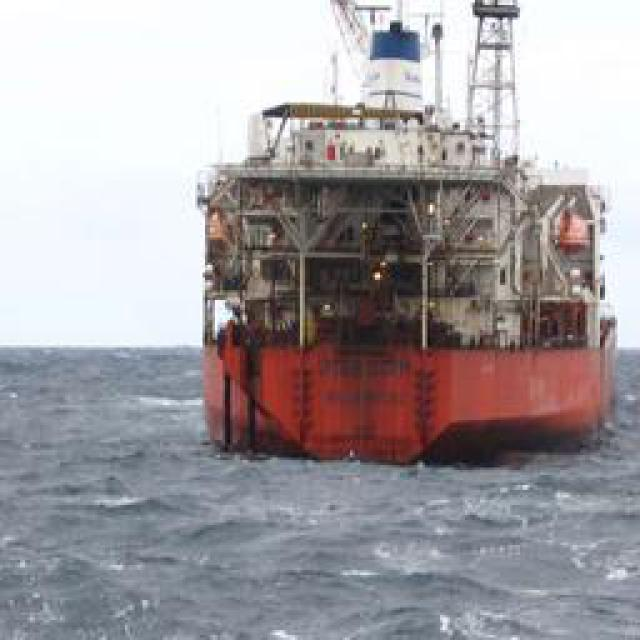Ship: (201, 4, 609, 469)
